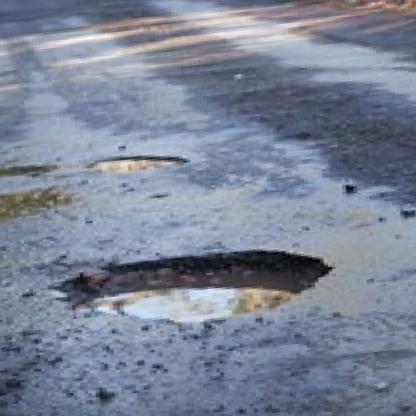pothole: (56, 236, 340, 338), (86, 146, 191, 180)
